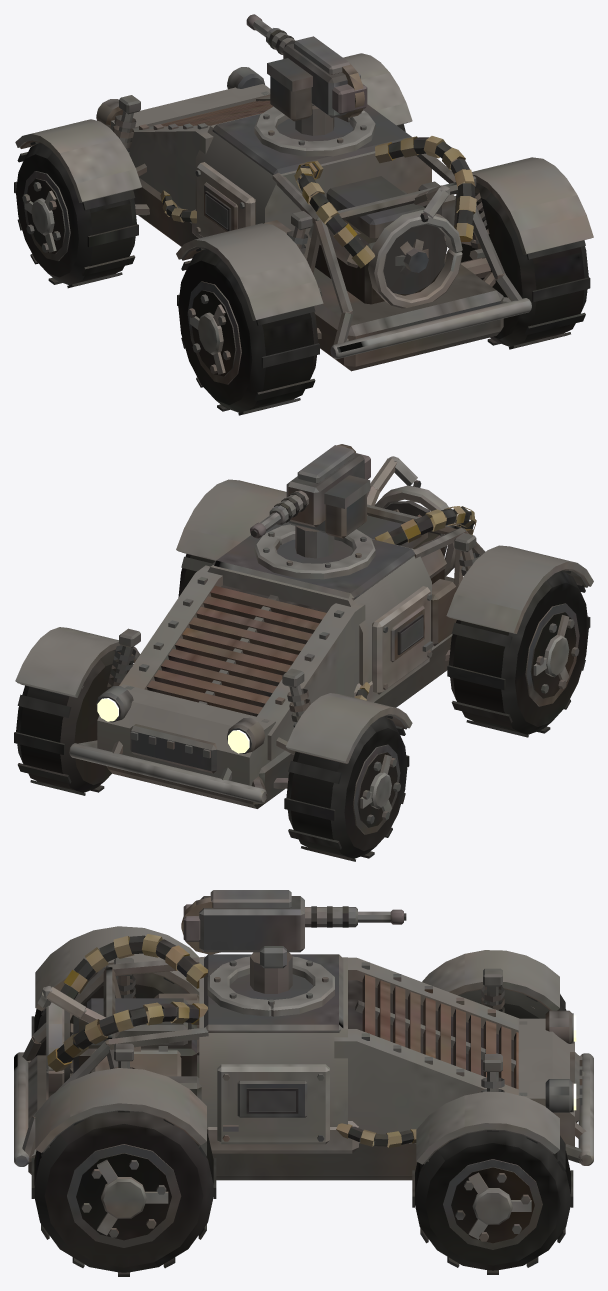
Rendered from car.glb.
3 renders of one model, top to bottom at view 1: azimuth 30°, elevation 25°; view 2: azimuth 150°, elevation 25°; view 3: azimuth 270°, elevation 25°, orthographic. The views are drawn at different scales.
Parts seen in each view (by area): view 1: body, anim_wheel_rear, anim_wheel_front, anim_wheel_rear.001, anim_turret_head, anim_steer_front, anim_steer_front.001, anim_engine_fan, anim_turret_barrel; view 2: body, anim_wheel_rear, anim_wheel_front, anim_wheel_front.001, anim_turret_head, anim_steer_front, anim_steer_front.001, anim_turret_barrel, anim_headlight, anim_wheel_rear.001; view 3: body, anim_wheel_rear.001, anim_wheel_front.001, anim_turret_head, anim_steer_front.001, anim_steer_front, anim_turret_barrel, anim_wheel_rear, anim_wheel_front.
Boxes of the visible parts, box(x1,y1,x2,y2) form: body: box(96, 67, 593, 371); anim_wheel_rear: box(177, 248, 319, 415); anim_wheel_front: box(14, 142, 138, 288); anim_wheel_rear.001: box(455, 183, 590, 349); anim_turret_head: box(267, 36, 367, 135); anim_steer_front: box(15, 119, 141, 202); anim_steer_front.001: box(343, 53, 412, 125); anim_engine_fan: box(395, 239, 428, 275); anim_turret_barrel: box(246, 14, 295, 54); body: box(69, 456, 593, 808); anim_wheel_rear: box(447, 570, 590, 737); anim_wheel_front: box(284, 715, 409, 861); anim_wheel_front.001: box(14, 650, 133, 795); anim_turret_head: box(286, 444, 370, 558); anim_steer_front: box(286, 693, 412, 763); anim_steer_front.001: box(15, 627, 140, 697); anim_turret_barrel: box(250, 490, 308, 538); anim_headlight: box(97, 698, 249, 753); anim_wheel_rear.001: box(178, 554, 215, 597); body: box(14, 926, 593, 1180); anim_wheel_rear.001: box(31, 1111, 216, 1276); anim_wheel_front.001: box(412, 1130, 573, 1274); anim_turret_head: box(181, 890, 304, 993); anim_steer_front.001: box(416, 1091, 559, 1164); anim_steer_front: box(422, 950, 559, 1010); anim_turret_barrel: box(305, 906, 406, 927); anim_wheel_rear: box(31, 972, 199, 1056); anim_wheel_front: box(459, 989, 566, 1018).
Bounding box in the file's own units: 1.94 × 1.45 × 2.58.
3 materials, 3 textured.
